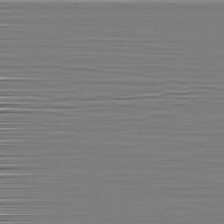cavities: (63, 82, 132, 124)
